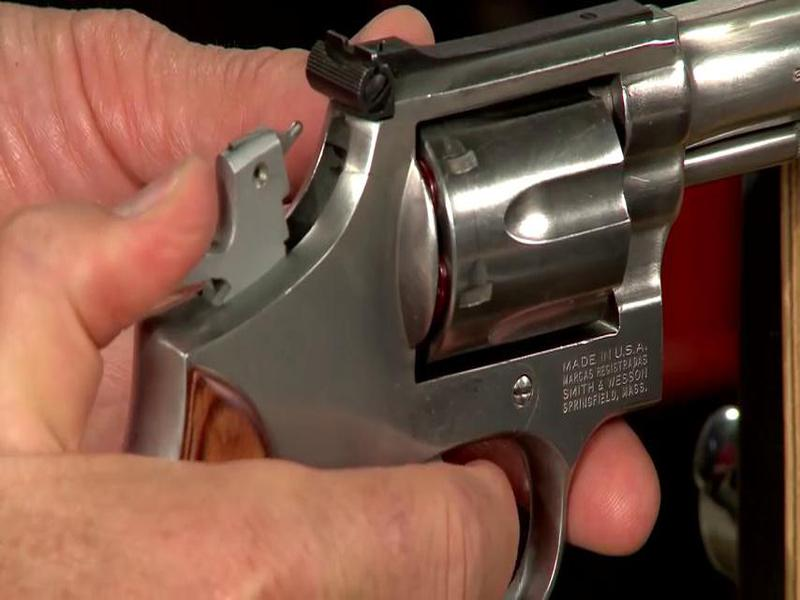Revolver: (96, 4, 800, 551)
